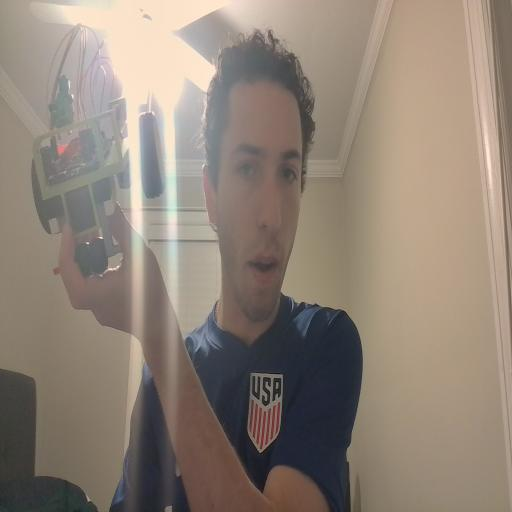green LEGO minifig: (48, 72, 76, 132)
